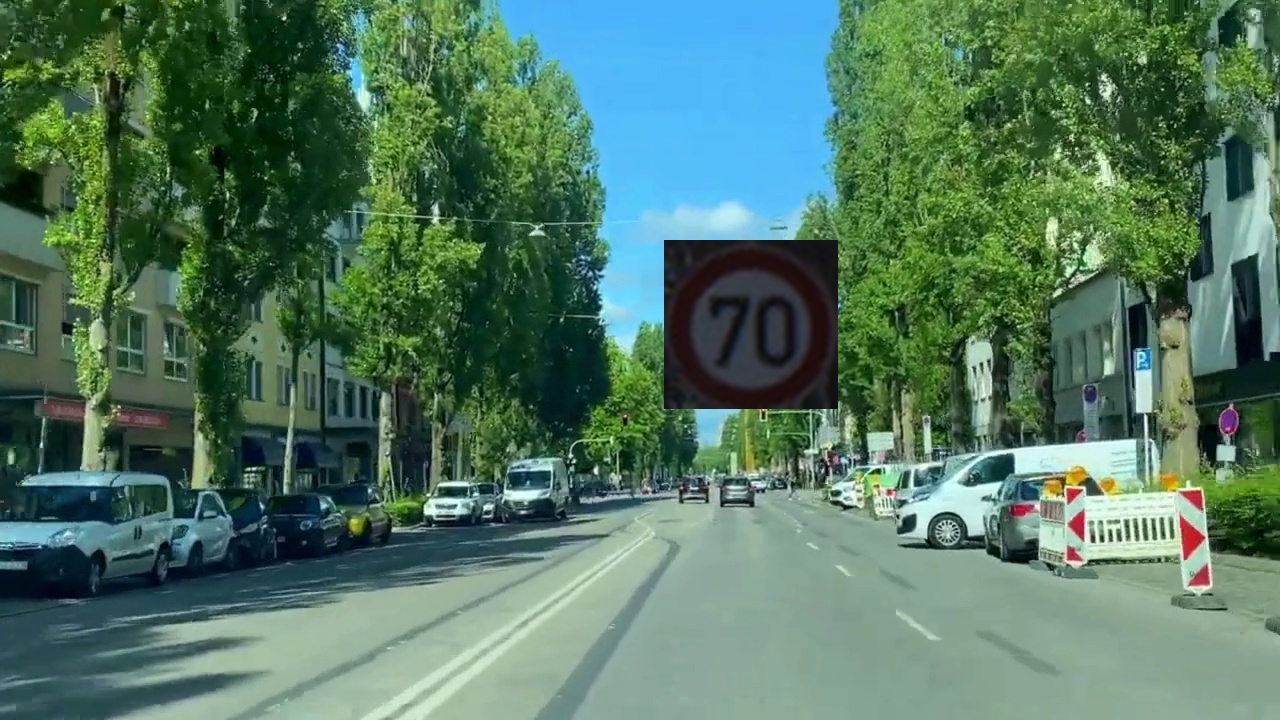Speed 70: (664, 240, 838, 409)
